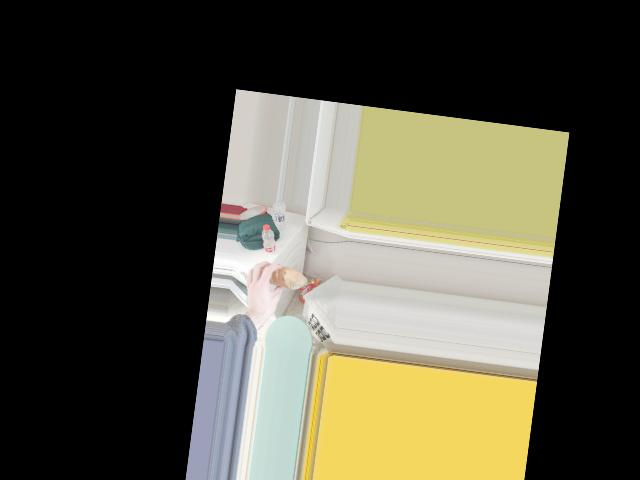sweet_potato: (261, 265, 297, 294)
